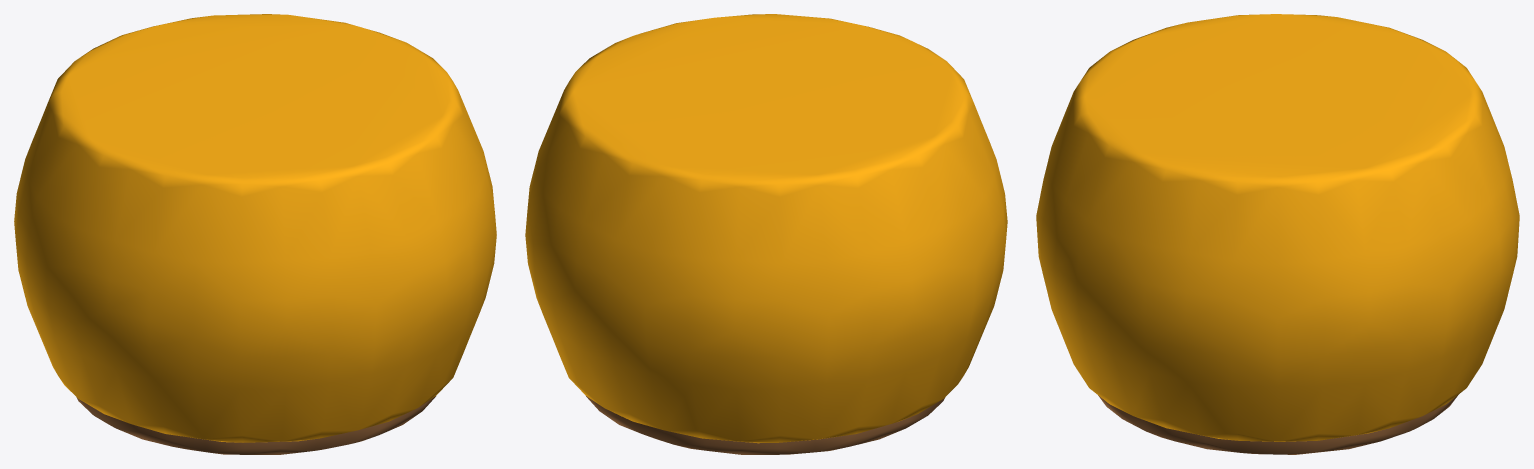
The model's file is stool_05_leather_yellow.fbx.
The picture shows the model from 3 angles, left to right: view 1: azimuth 30°, elevation 25°; view 2: azimuth 150°, elevation 25°; view 3: azimuth 270°, elevation 25°; orthographic projection.
Parts seen in each view (by area): view 1: stool_05_leather_yellow; view 2: stool_05_leather_yellow; view 3: stool_05_leather_yellow.
Boxes of the visible parts, x1,y1,x2,y2 form: stool_05_leather_yellow: (14,14,496,454); stool_05_leather_yellow: (525,14,1007,454); stool_05_leather_yellow: (1036,14,1519,454).
Size of the model in its own units: 74.92 by 48.55 by 74.92.
Materials: 2 (2 with a texture image).
